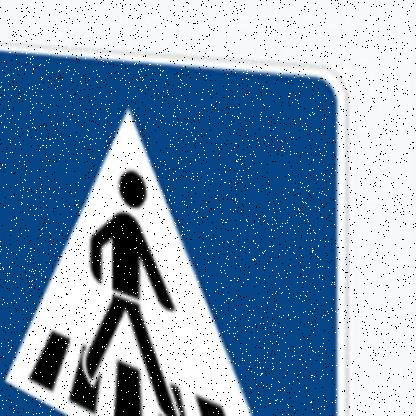Pedestrian Crossing: (1, 29, 356, 416)
